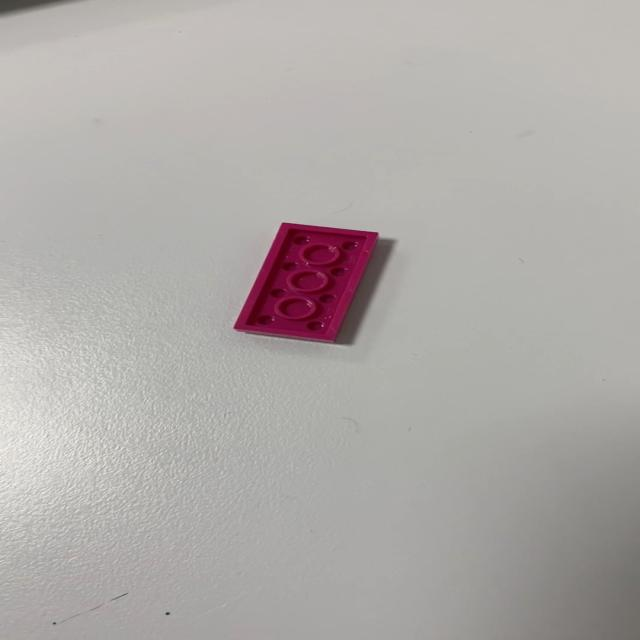C4x2x0: (231, 221, 380, 344)
